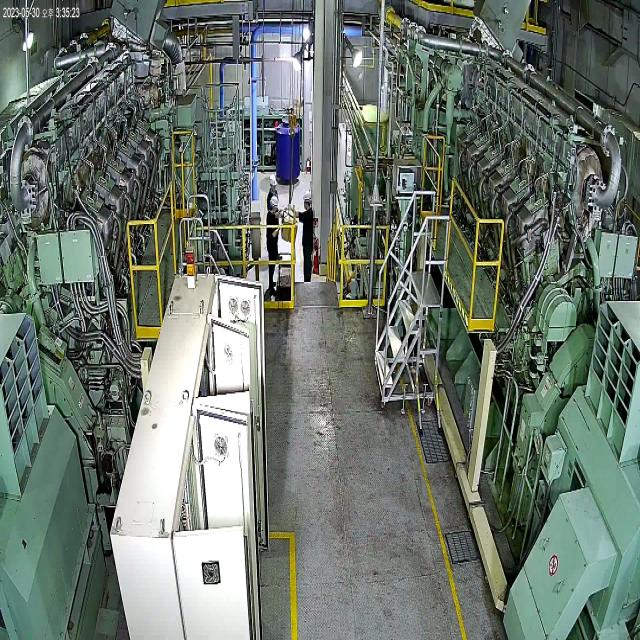Water Tank: (272, 106, 302, 190)
worker: (292, 185, 321, 290), (264, 195, 283, 311), (266, 166, 286, 264)
